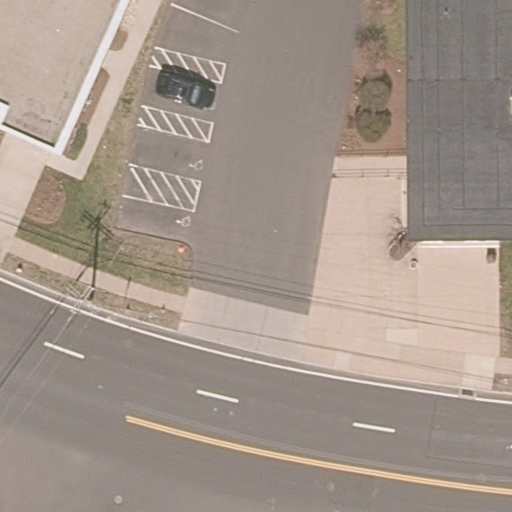DT: (63, 278, 100, 318)
